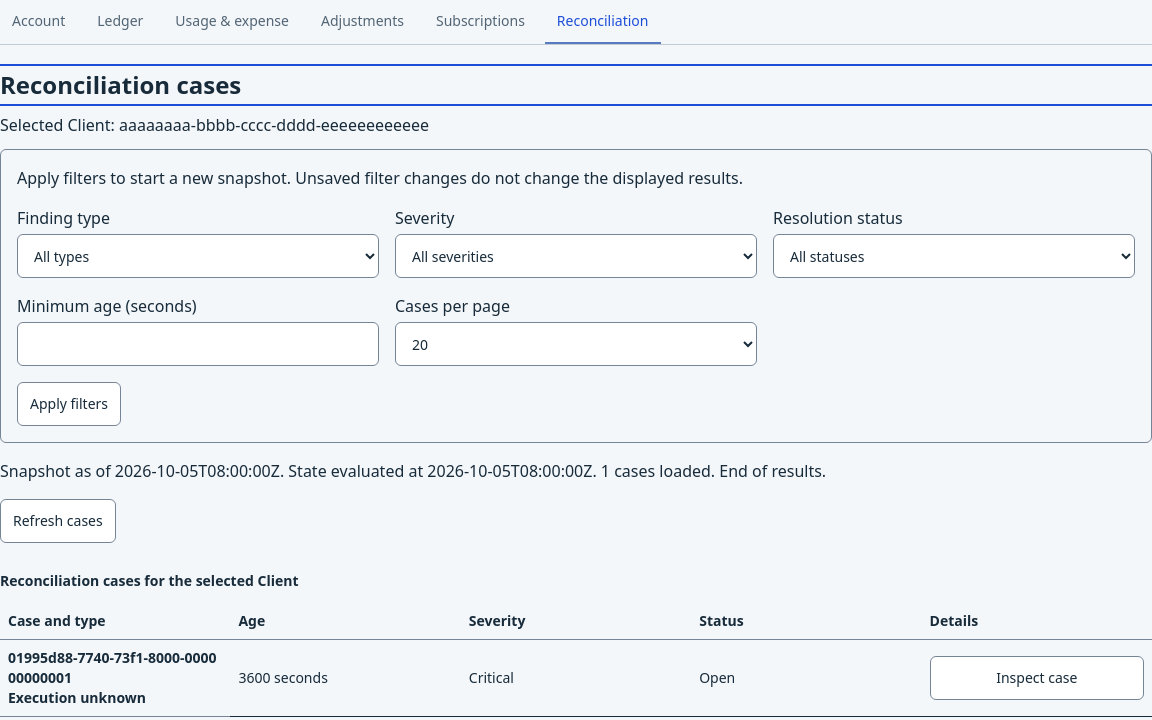
reconciliation workspace › names filters and confirmation financial effect; links required reason validation
The image size is (1152, 720).
Click the button "Inspect case" at [1037, 678], box [930,656,1144,700]
(page scrolled)
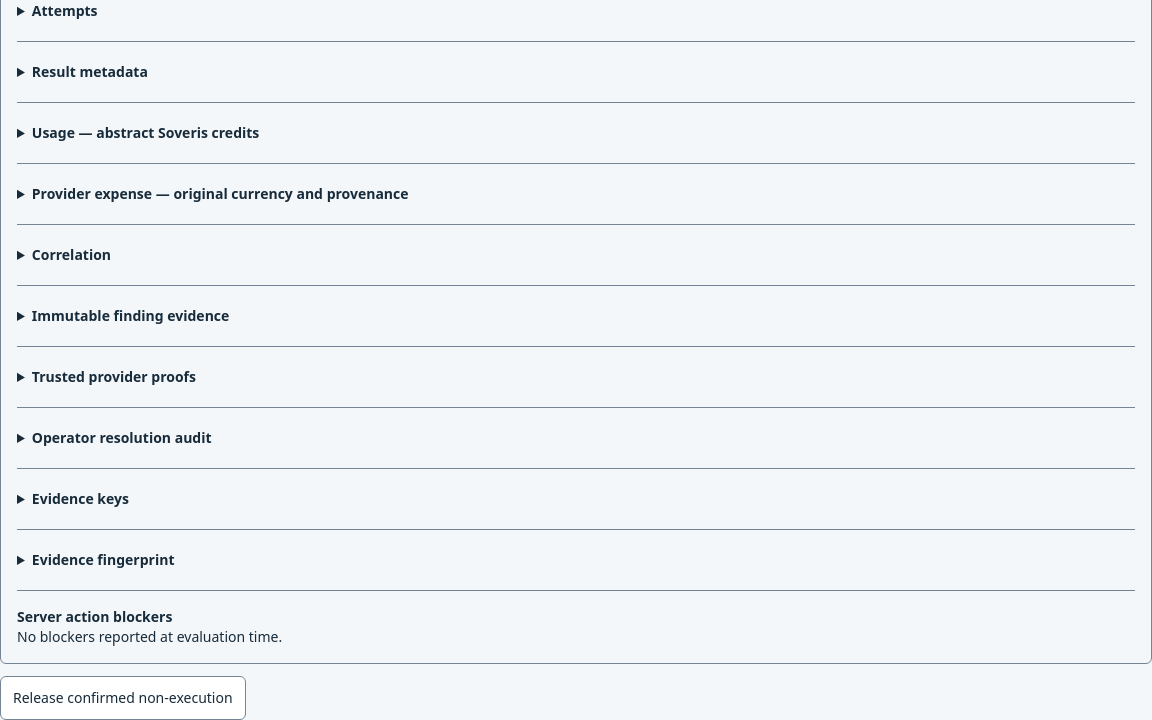
Click the button "Release confirmed non-execution" at [123, 698], box [0,676,246,719]
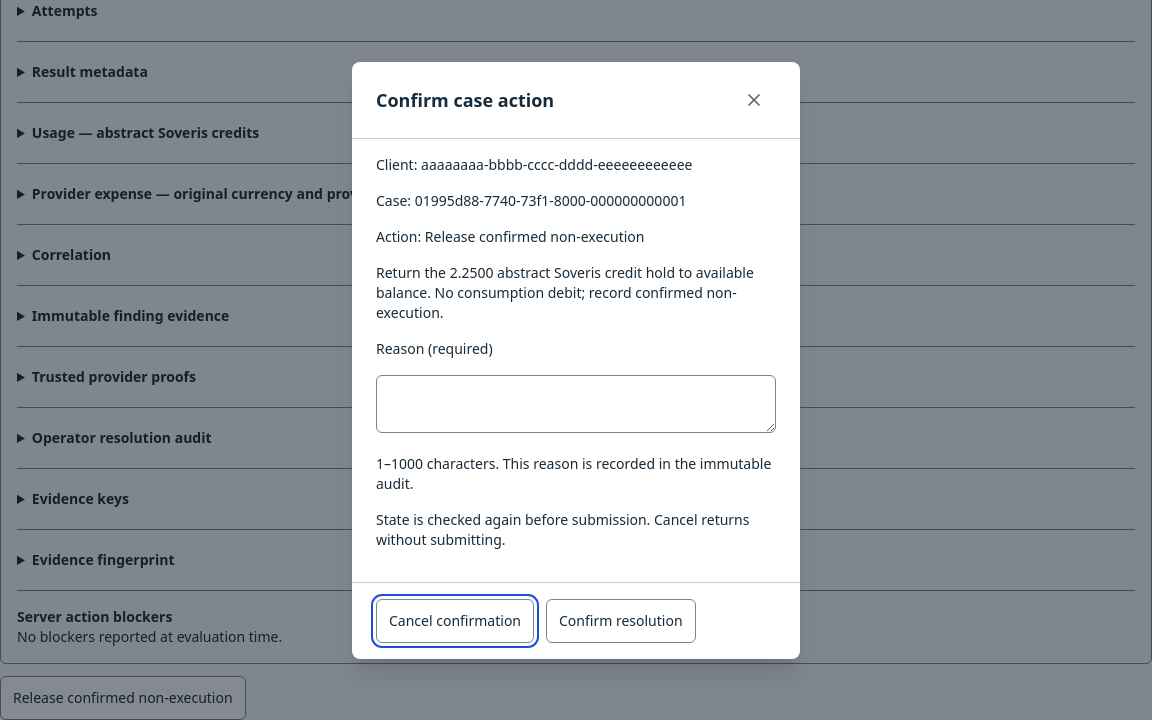
Expected: the dialog "Confirm case action" is shown, [352,62,800,658]
Expected: the text "Return the 2.2500 abstract Soveris credit hold" is shown, [376,262,754,322]
Click the button "Confirm resolution" at [621, 620], box [546,598,696,642]
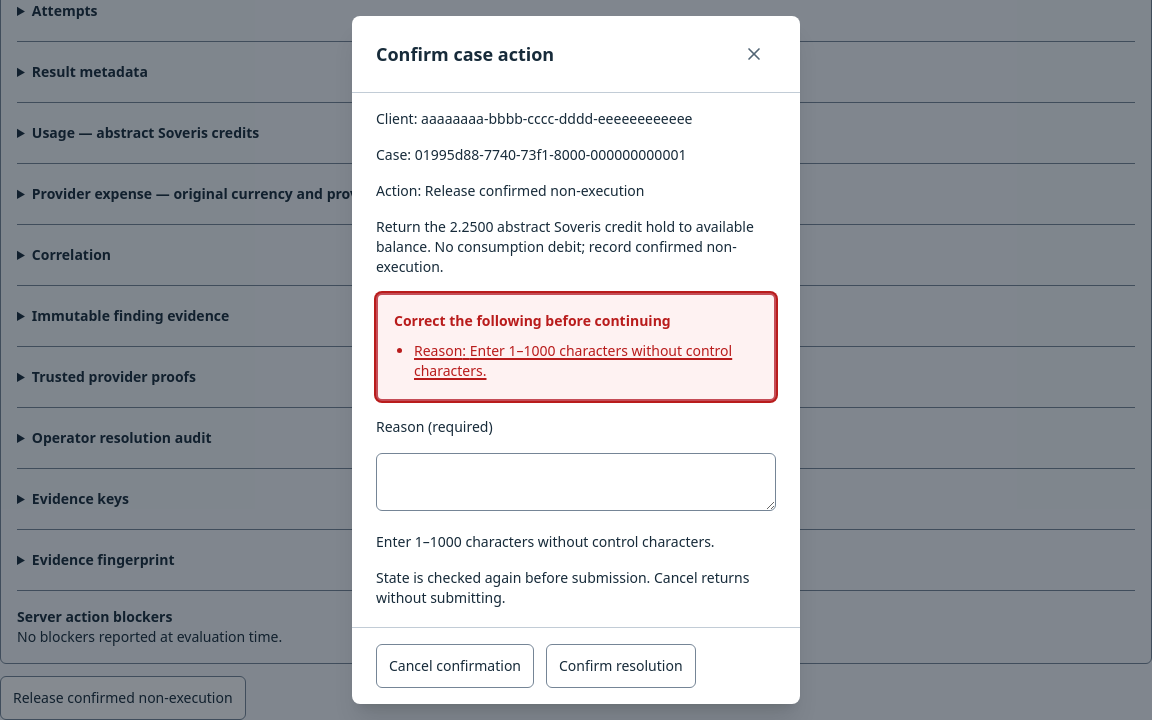
Click the link "Reason: Enter 1–1000 characters without control characters." at [586, 361], box [414,339,758,383]
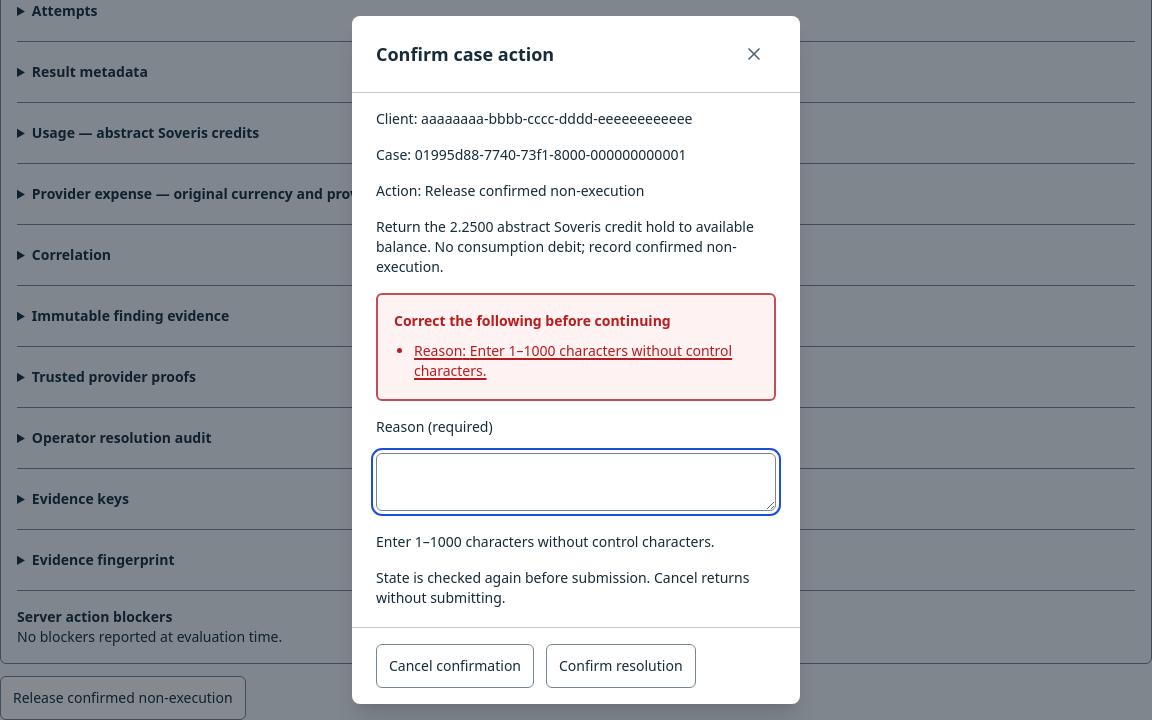
Press Escape
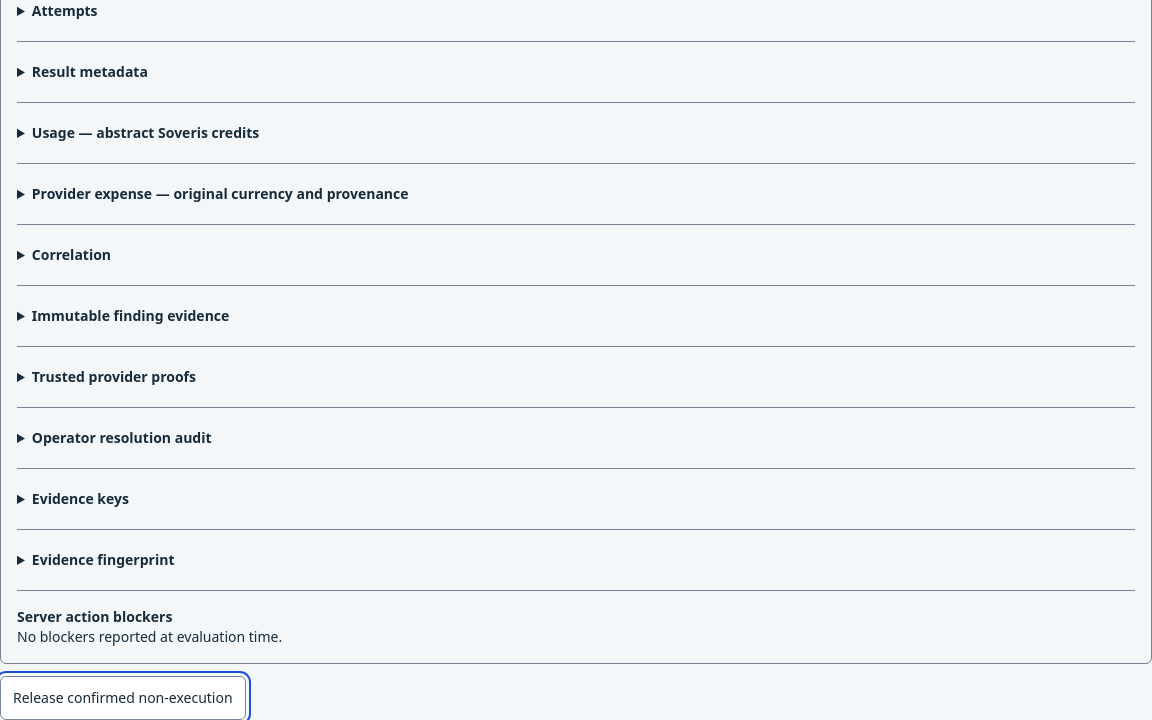
Expected: the dialog is gone
